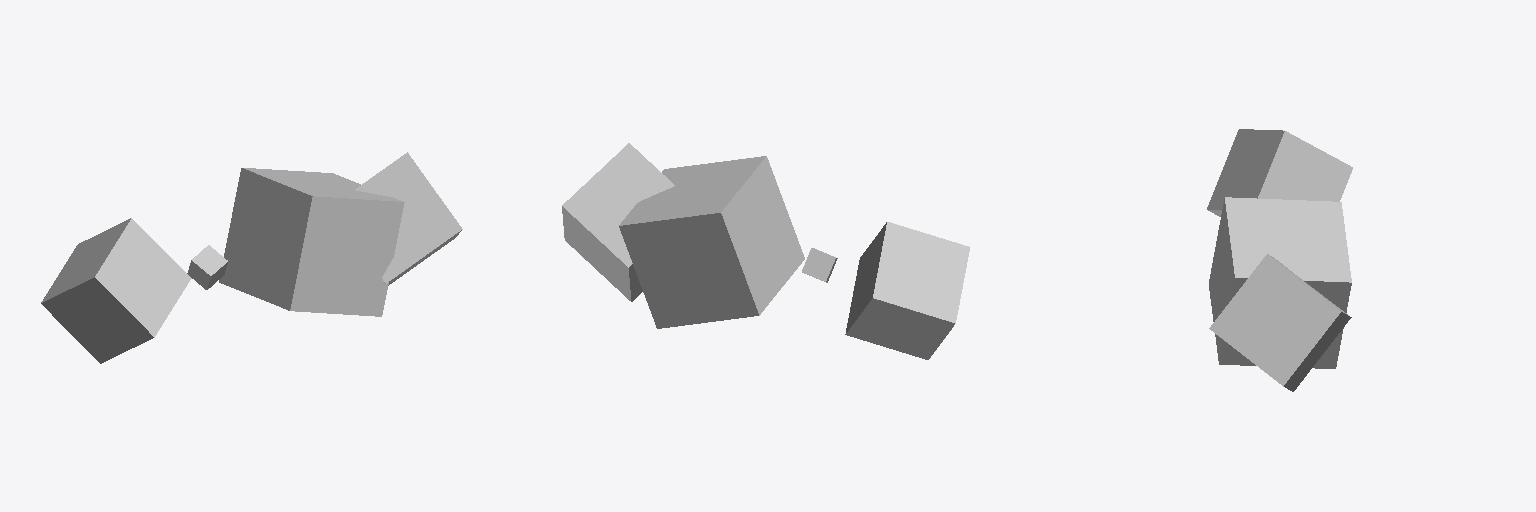
Rendered from cloud4.obj.
The picture shows the model from 3 angles: view 1: azimuth 30°, elevation 25°; view 2: azimuth 150°, elevation 25°; view 3: azimuth 270°, elevation 25°; orthographic projection.
Parts seen in each view (by area): view 1: Cube.001_Cube.005; view 2: Cube.001_Cube.005; view 3: Cube.001_Cube.005.
Part boxes in pixels (left/top/right/bottom): Cube.001_Cube.005: left=41, top=152, right=462, bottom=363; Cube.001_Cube.005: left=562, top=143, right=969, bottom=359; Cube.001_Cube.005: left=1207, top=129, right=1352, bottom=391.
Bounding box in the file's own units: 16.32 × 5.66 × 5.15.